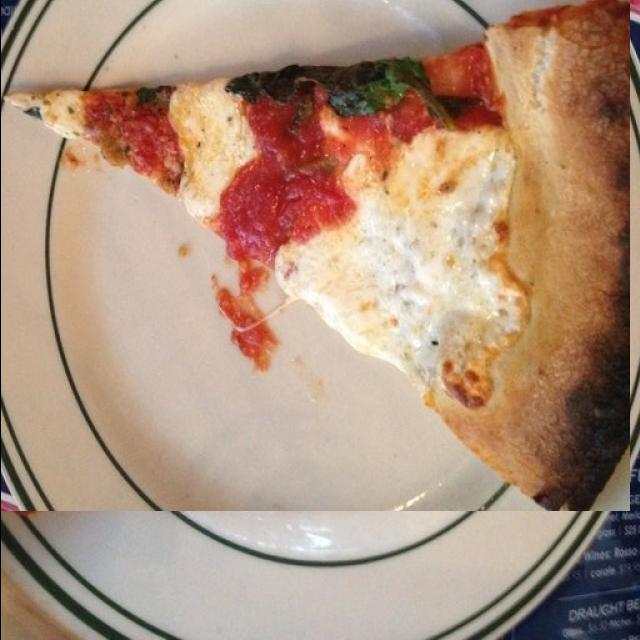basil: (170, 381, 406, 454)
pizza: (0, 0, 629, 511)
